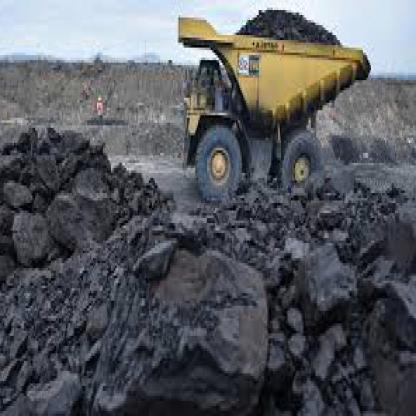Sedimentary_coal: (141, 248, 271, 399), (25, 358, 86, 414), (7, 206, 49, 258)
